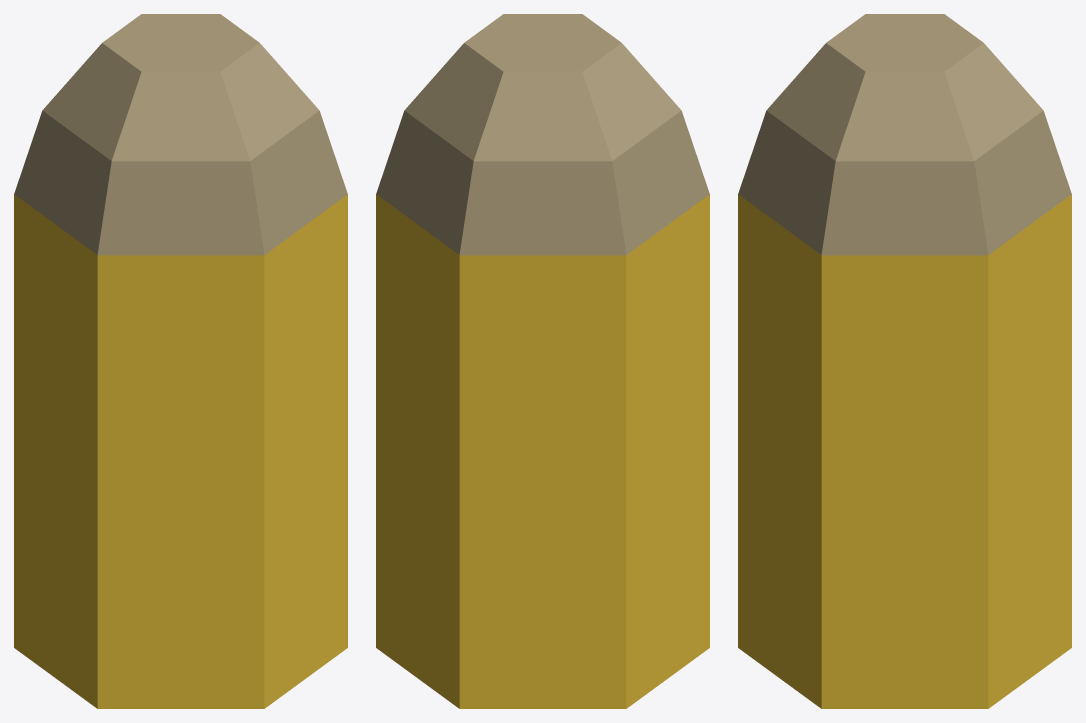
The model's file is cartridge.fbx.
3 views of the same model, side by side, from view 1: azimuth 30°, elevation 25°; view 2: azimuth 150°, elevation 25°; view 3: azimuth 270°, elevation 25° (orthographic).
Visible parts, largest first — view 1: sleeve, bullet; view 2: sleeve, bullet; view 3: sleeve, bullet.
Part boxes in pixels (x1,y1,x2,y2): sleeve: (14, 194, 347, 708); bullet: (14, 14, 347, 255); sleeve: (376, 194, 709, 708); bullet: (376, 14, 709, 255); sleeve: (738, 194, 1071, 708); bullet: (738, 14, 1071, 255).
Size of the model in its own units: 1124 by 2596 by 1298.
